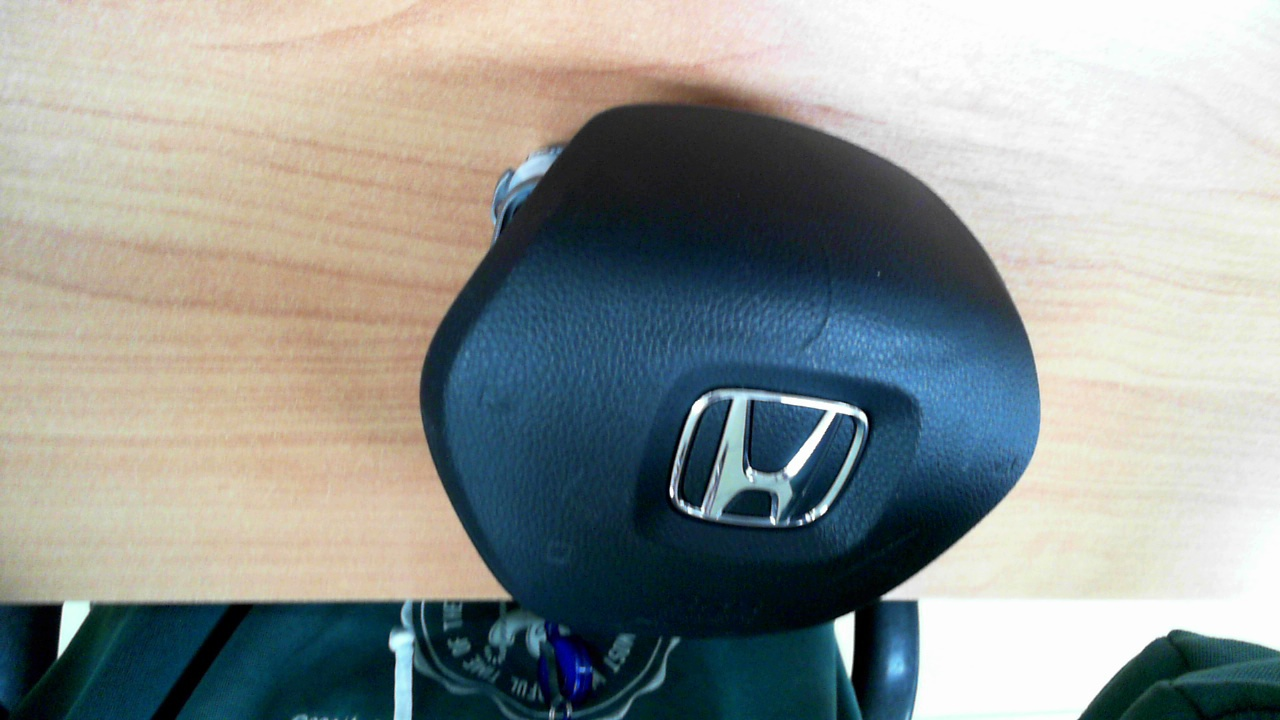Airbag: (419, 104, 1043, 636)
Honda: (668, 387, 870, 529)
